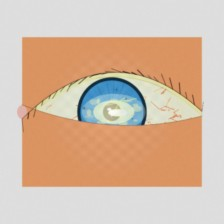corneal_ulcer: (80, 85, 147, 139)
